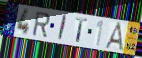1: (96, 20, 104, 48)
4: (16, 8, 31, 37)
A: (104, 21, 125, 53)
I: (57, 13, 69, 42)
R: (31, 11, 51, 38)
T: (74, 17, 89, 44)
